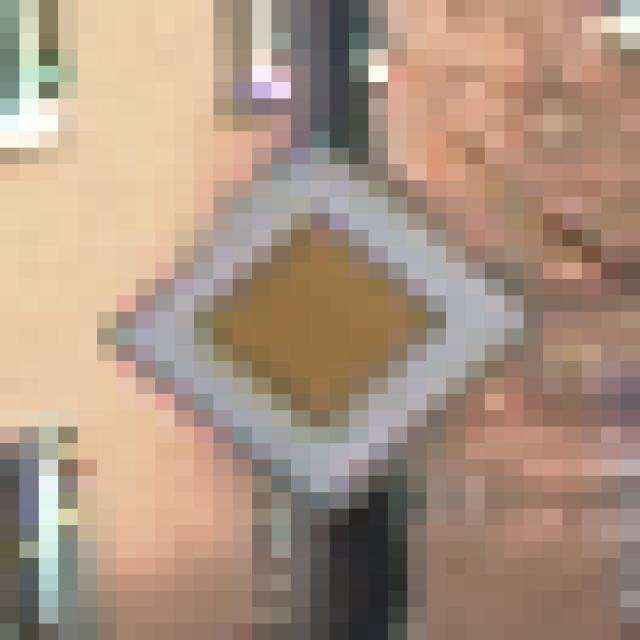Main Road: (98, 83, 544, 559)
